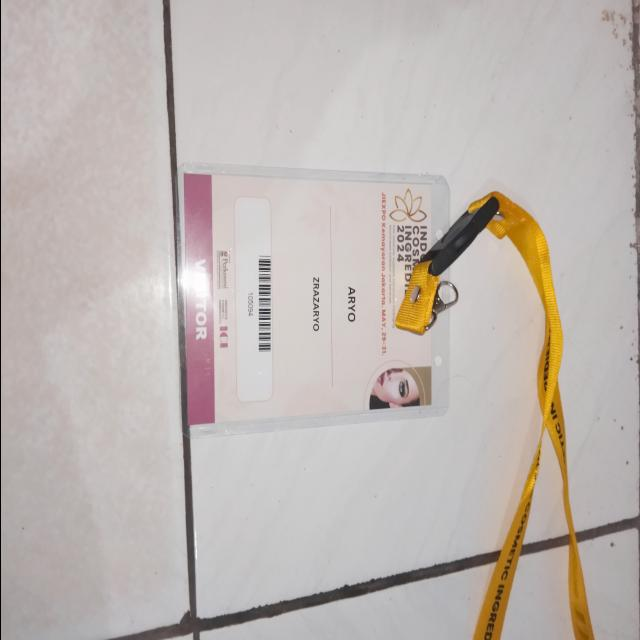ID_card: (180, 162, 454, 434)
